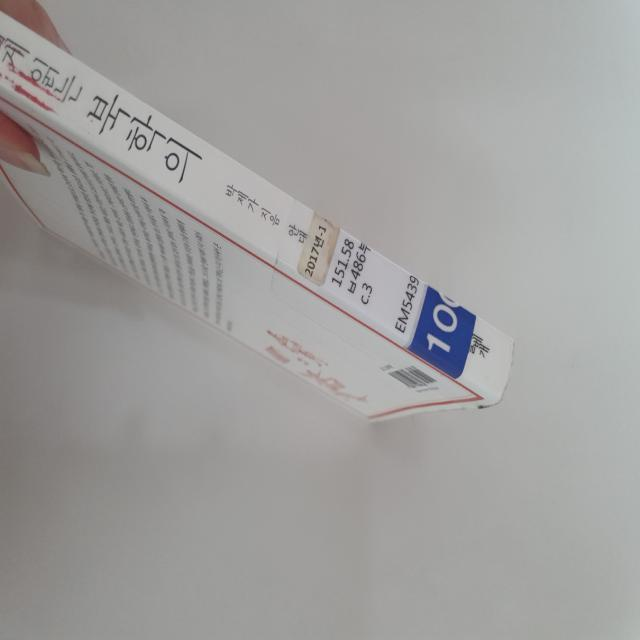Wornout: (477, 335, 520, 413)
